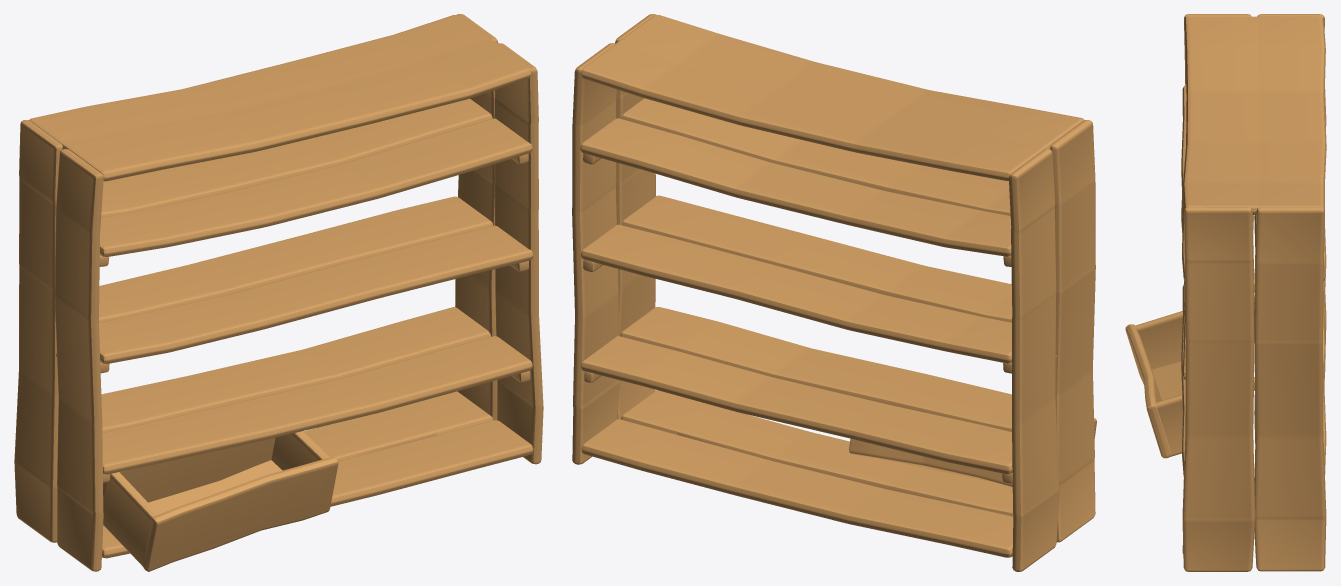
Rendered from Shelf 1.fbx.
The picture shows the model from 3 angles, left to right: view 1: azimuth 30°, elevation 25°; view 2: azimuth 150°, elevation 25°; view 3: azimuth 270°, elevation 25°; orthographic projection. The views are drawn at different scales.
Visible parts, largest first — view 1: Shelf; view 2: Shelf; view 3: Shelf.
Part boxes in pixels (x1=…): Shelf: x1=14, y1=14, x2=543, y2=571; Shelf: x1=572, y1=14, x2=1096, y2=571; Shelf: x1=1125, y1=14, x2=1326, y2=571.
Size of the model in its own units: 313 by 259 by 130.
